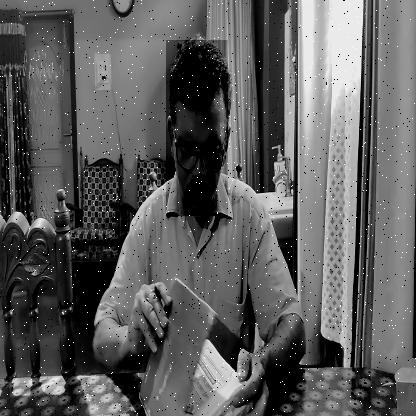Normal: (166, 40, 228, 216)
